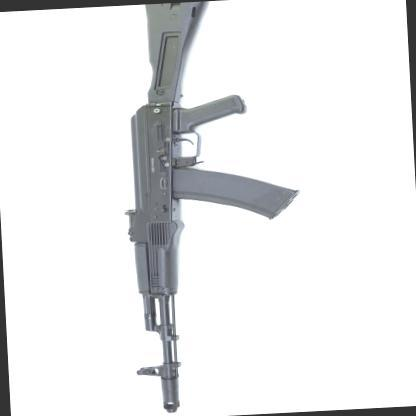rifle: (83, 0, 320, 414)
